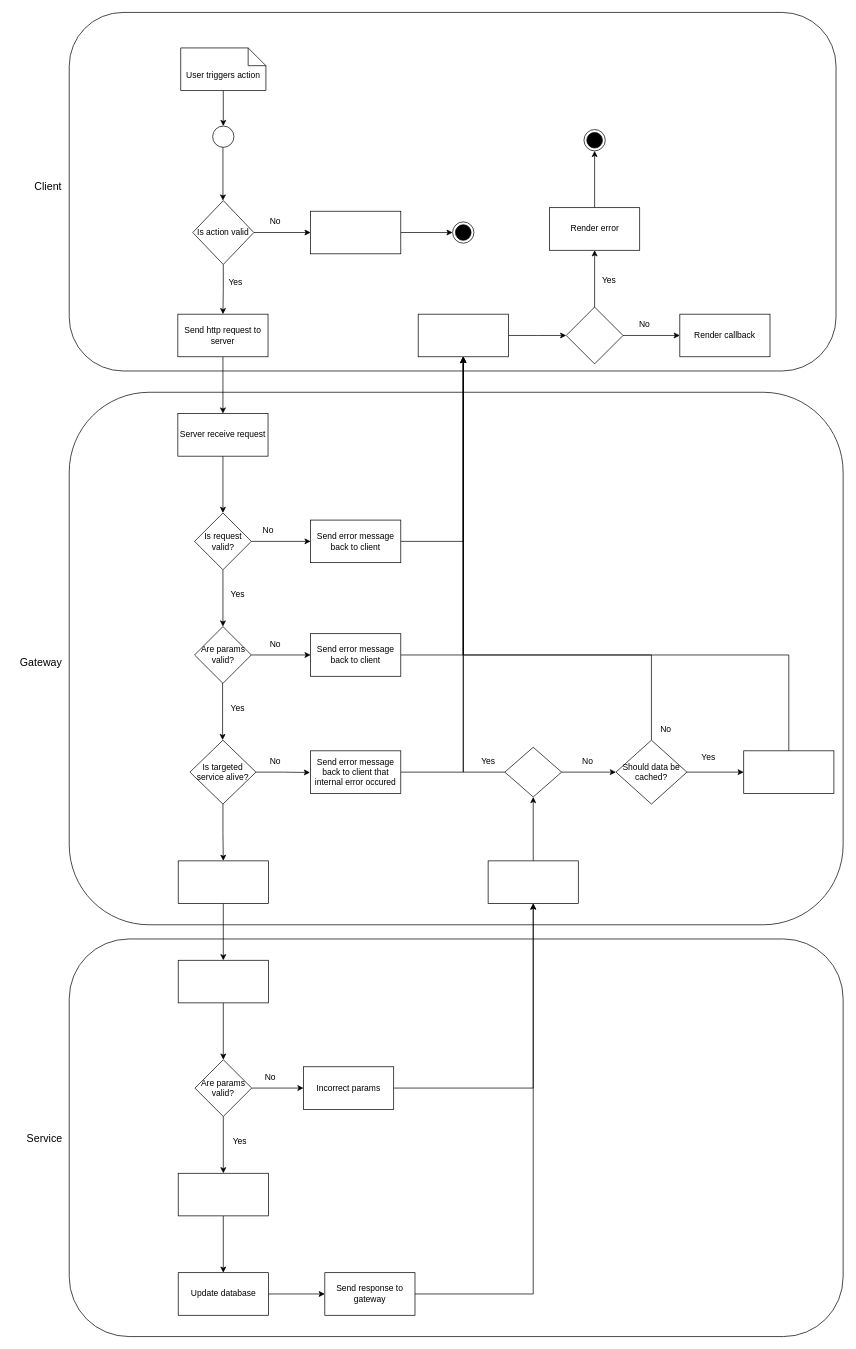
This 856x1349 diagram has some shape labels left out. Here are the shapes that lost their labels. From the top down, the box of each, then its label:
(310, 211, 401, 254): Action is invalid. Render error to user
(417, 313, 508, 357): Receive callback
(566, 306, 623, 364): Error ?
(504, 747, 562, 797): Error?
(743, 750, 834, 793): Cache data
(178, 860, 268, 903): Send message via broker to another service
(487, 860, 578, 903): Get response from service
(178, 960, 268, 1003): Service receive request
(178, 1173, 268, 1216): Perform action
